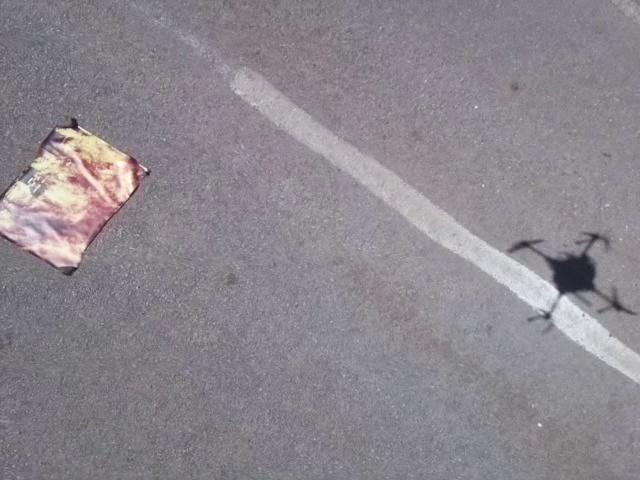fire-poster: (0, 115, 152, 278)
